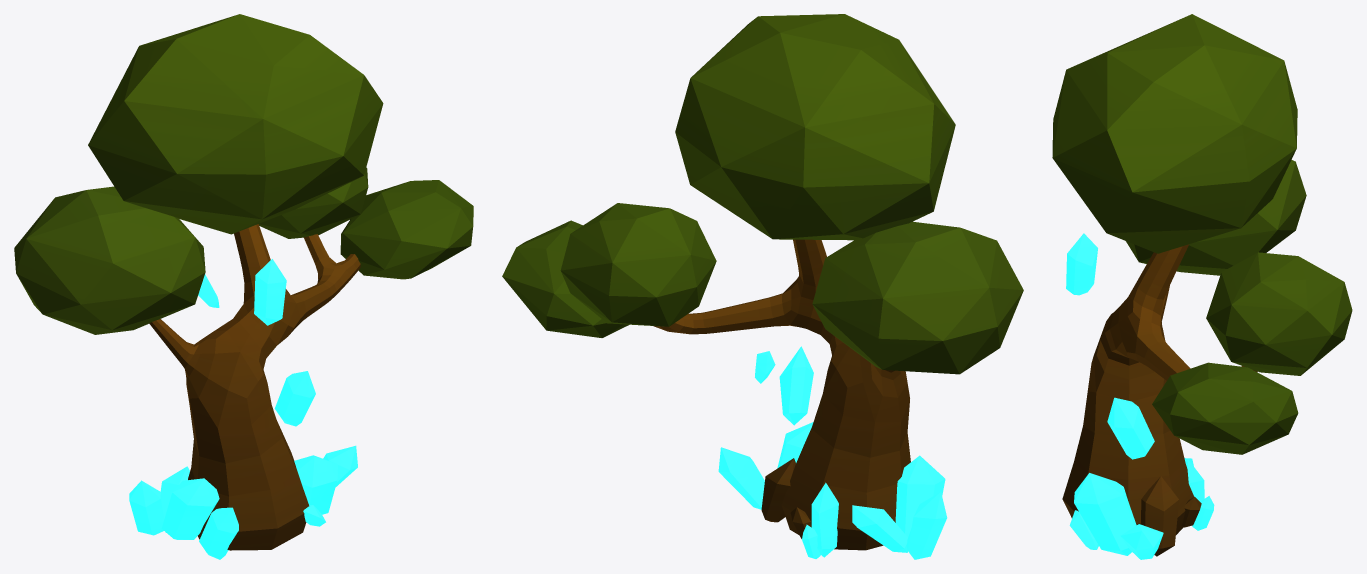
Rendered from arbol2.fbx.
The picture shows the model from 3 angles, left to right: view 1: azimuth 30°, elevation 25°; view 2: azimuth 150°, elevation 25°; view 3: azimuth 270°, elevation 25°; orthographic projection. The views are drawn at different scales.
Visible parts, largest first — view 1: Arbol_Gema1; view 2: Arbol_Gema1; view 3: Arbol_Gema1.
Part boxes in pixels (x1,y1,x2,y2): Arbol_Gema1: (14,14,473,559); Arbol_Gema1: (502,14,1023,559); Arbol_Gema1: (1052,14,1352,559).
Bounding box in the file's own units: 321 × 336 × 180.
